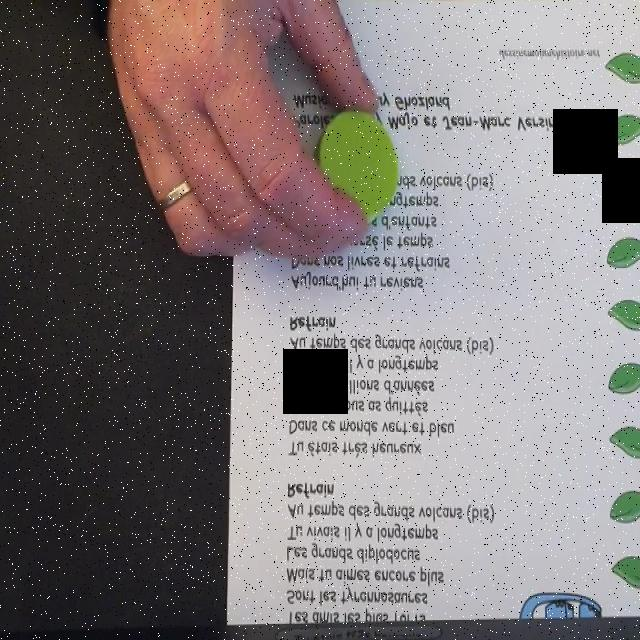round: (313, 110, 399, 219)
